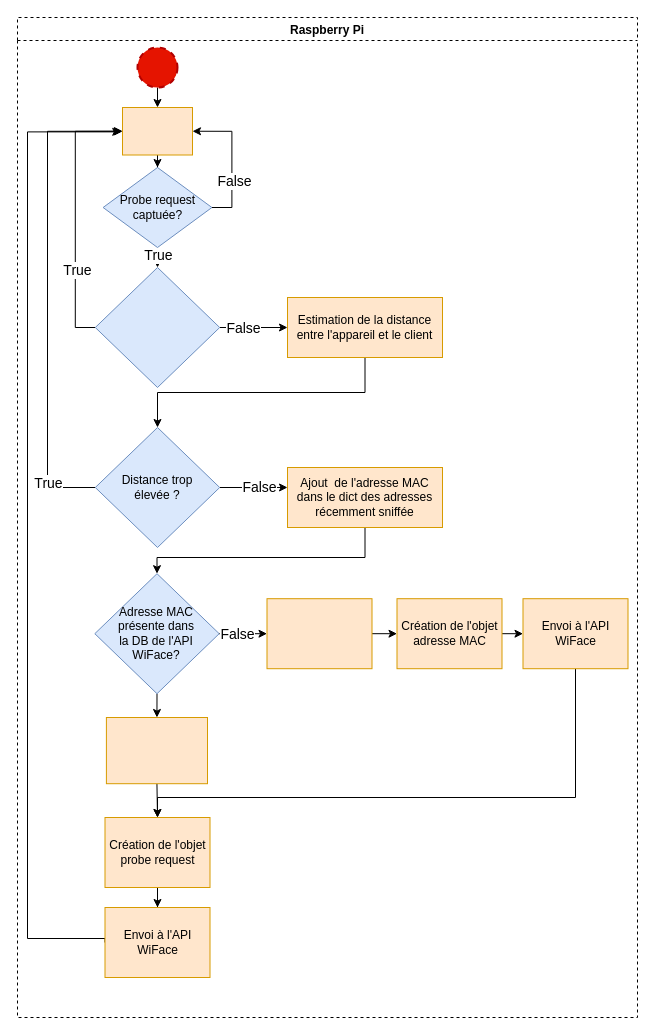
The diagram is 655 pixels wide and 1035 high, and some of its shapes have lost their labels. Here are the shapes that lost their labels. From the top down, the box of each, then its label:
(136, 46, 178, 88): Start
(122, 106, 192, 155): Sniff sur l'interface monitor
(94, 266, 220, 388): Adresse présente dans le dictionnaire
(266, 598, 372, 669): Détection de la randomisation de l'adresse
(105, 716, 208, 784): Récupération de l'objet adresse MAC
